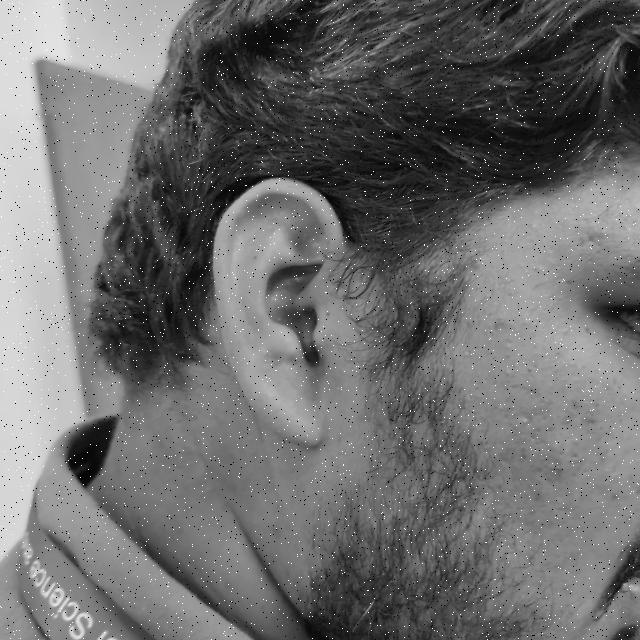ear: (213, 178, 346, 445), (320, 327, 330, 334)
